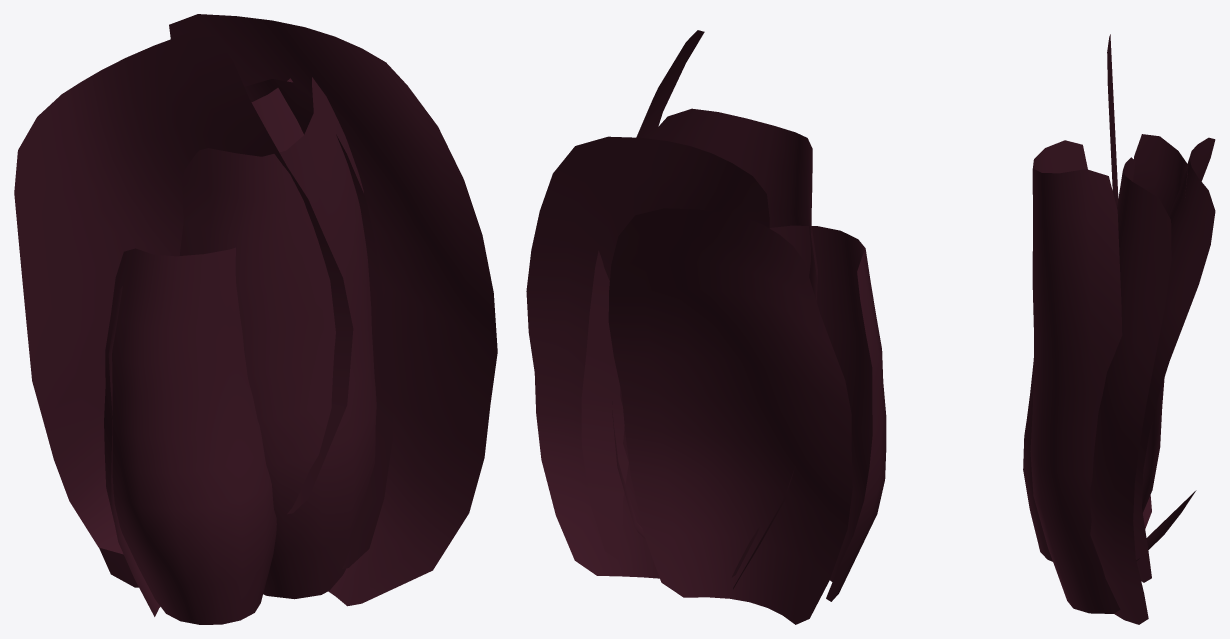
Rendered from SM_Coral_Whip_01.obj.
The picture shows the model from 3 angles, left to right: view 1: azimuth 30°, elevation 25°; view 2: azimuth 150°, elevation 25°; view 3: azimuth 270°, elevation 25°; orthographic projection. The views are drawn at different scales.
Parts seen in each view (by area): view 1: SM_Coral_Whip_01_LOD0; view 2: SM_Coral_Whip_01_LOD0; view 3: SM_Coral_Whip_01_LOD0.
Part boxes in pixels (x1,y1,x2,y2): SM_Coral_Whip_01_LOD0: [14, 14, 497, 624]; SM_Coral_Whip_01_LOD0: [526, 30, 886, 624]; SM_Coral_Whip_01_LOD0: [1023, 34, 1215, 624].
Size of what is drawn, in the model's own units: 88.92 by 121 by 49.39.
